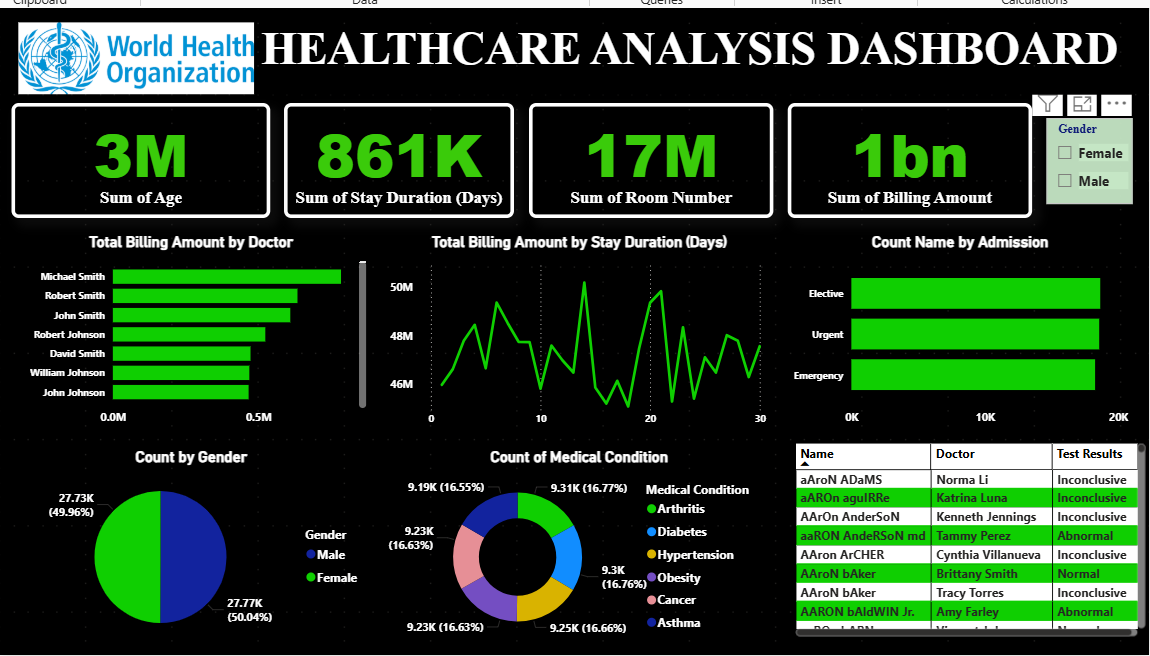

Layout of this report page (visuals, bound fields, positions):
{"tool":"powerbi","page":{"name":"Page 1","canvas":[1280,720],"ordinal":0},"visuals":[{"type":"card","fields":{"Values":["Sum(healthcare_dataset.Stay Duration (Days))"]},"box":[317.4,105.9,256,128],"z":0},{"type":"card","fields":{"Values":["Sum(healthcare_dataset.Age)"]},"box":[13.4,105.9,288,128],"z":1000},{"type":"card","fields":{"Values":["Sum(healthcare_dataset.Room Number)"]},"box":[589.4,105.9,272,128],"z":2000},{"type":"card","fields":{"Values":["Sum(healthcare_dataset.Billing Amount)"]},"box":[877.4,105.9,272,128],"z":3000},{"type":"pieChart","title":"Count by Gender","fields":{"Category":["healthcare_dataset.Gender"],"Y":["CountNonNull(healthcare_dataset.Name)"]},"box":[13.4,489.9,400,224],"z":4000},{"type":"barChart","title":"Count Name by Admission ","fields":{"Y":["CountNonNull(healthcare_dataset.Name)"],"Category":["healthcare_dataset.Admission Type"]},"box":[877.4,249.9,384,224],"z":5000},{"type":"donutChart","title":"Count of Medical Condition ","fields":{"Category":["healthcare_dataset.Medical Condition"],"Y":["CountNonNull(healthcare_dataset.Medical Condition)"]},"box":[429.4,489.9,432,224],"z":6000},{"type":"lineChart","title":"Total Billing Amount by Stay Duration (Days)","fields":{"Y":["Sum(healthcare_dataset.Billing Amount)"],"Category":["healthcare_dataset.Stay Duration (Days)"]},"box":[429.4,249.9,432,224],"z":7000},{"type":"clusteredBarChart","title":"Total Billing Amount by Doctor","fields":{"Category":["healthcare_dataset.Doctor"],"Y":["Sum(healthcare_dataset.Billing Amount)"]},"box":[13.4,249.9,400,224],"z":8000},{"type":"tableEx","fields":{"Values":["healthcare_dataset.Name","healthcare_dataset.Doctor","healthcare_dataset.Test Results"]},"box":[880,480,400,224],"z":9000},{"type":"slicer","fields":{"Values":["healthcare_dataset.Gender"]},"box":[1165.4,121.9,96,96],"z":10000},{"type":"shape","title":"Healthcare Analytics Dashboard","box":[272,16,992,80],"z":11000},{"type":"image","box":[16,0,272,112],"z":12000}]}

Visuals, with their boxes on the page's 1280x720 design canvas (x1, y1, x2, y2). These are canvas units, not pixel positions in the 1150x656 screenshot, which may show the page scaled, cropped or inside an application window:
card - Sum(healthcare_dataset.Stay Duration (Days)): [left=317, top=106, right=573, bottom=234]
card - Sum(healthcare_dataset.Age): [left=13, top=106, right=301, bottom=234]
card - Sum(healthcare_dataset.Room Number): [left=589, top=106, right=861, bottom=234]
card - Sum(healthcare_dataset.Billing Amount): [left=877, top=106, right=1149, bottom=234]
"Count by Gender" pieChart: [left=13, top=490, right=413, bottom=714]
"Count Name by Admission " barChart: [left=877, top=250, right=1261, bottom=474]
"Count of Medical Condition " donutChart: [left=429, top=490, right=861, bottom=714]
"Total Billing Amount by Stay Duration (Days)" lineChart: [left=429, top=250, right=861, bottom=474]
"Total Billing Amount by Doctor" clusteredBarChart: [left=13, top=250, right=413, bottom=474]
tableEx - healthcare_dataset.Name x healthcare_dataset.Doctor: [left=880, top=480, right=1280, bottom=704]
slicer - healthcare_dataset.Gender: [left=1165, top=122, right=1261, bottom=218]
"Healthcare Analytics Dashboard" shape: [left=272, top=16, right=1264, bottom=96]
image: [left=16, top=0, right=288, bottom=112]
